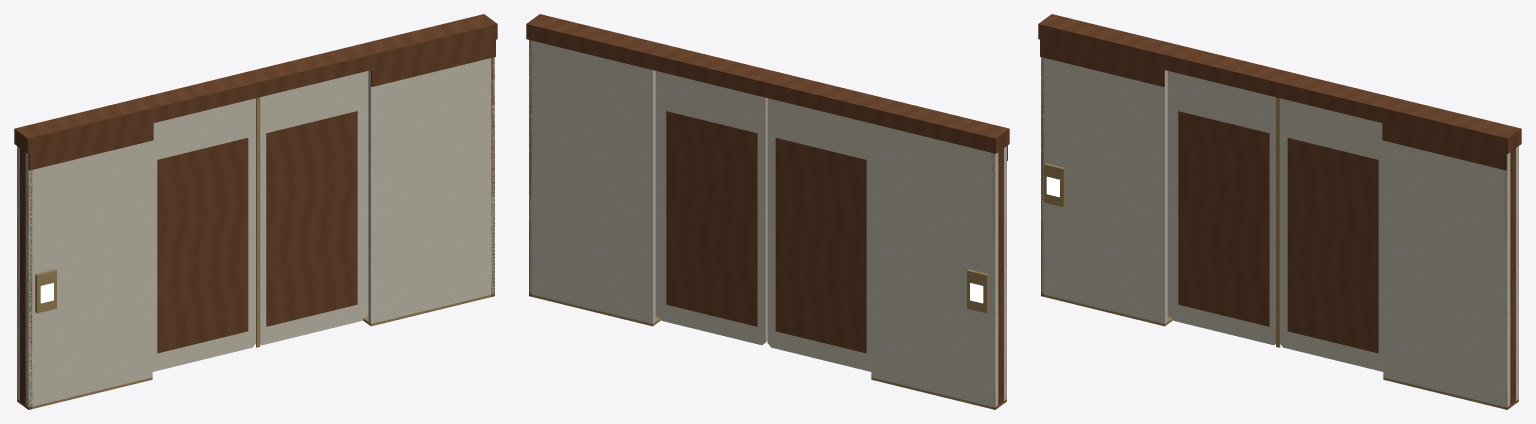
File: AST-DOR-002_wide270.glb
3 renders of one model, left to right at view 1: azimuth 30°, elevation 25°; view 2: azimuth 150°, elevation 25°; view 3: azimuth 330°, elevation 25°, orthographic.
Visible parts, largest first — view 1: ENTRY_PocketSkin_1_0, ENTRY_PocketSkin_-1_0, ENTRY_TimberInset_LEFT_-1, ENTRY_TimberInset_RIGHT_-1, ENTRY_Header, ENTRY_MovingPanel_RIGHT, ENTRY_MovingPanel_LEFT, ENTRY_ClosedPocketEnd_-1, ENTRY_FrontTrim_-1, ENTRY_FrontTrim_1, ENTRY_OverlappingMeetingSeal, ENTRY_PocketSkin_1_1 (+3 smaller); view 2: ENTRY_PocketSkin_1_1, ENTRY_PocketSkin_-1_1, ENTRY_TimberInset_LEFT_1, ENTRY_TimberInset_RIGHT_1, ENTRY_Header, ENTRY_MovingPanel_RIGHT, ENTRY_MovingPanel_LEFT, ENTRY_ClosedPocketEnd_-1, ENTRY_PocketSkin_1_0, ENTRY_PocketSkin_-1_0, ENTRY_InsideCallPlate, ENTRY_ClosedPocketEnd_1; view 3: ENTRY_PocketSkin_1_0, ENTRY_PocketSkin_-1_0, ENTRY_TimberInset_RIGHT_-1, ENTRY_TimberInset_LEFT_-1, ENTRY_Header, ENTRY_MovingPanel_LEFT, ENTRY_MovingPanel_RIGHT, ENTRY_FrontTrim_1, ENTRY_FrontTrim_-1, ENTRY_ClosedPocketEnd_1, ENTRY_OverlappingMeetingSeal, ENTRY_PocketSkin_-1_1 (+3 smaller).
Boxes of the visible parts, x1,y1,x2,y2 form: ENTRY_PocketSkin_1_0: (368,57,494,323); ENTRY_PocketSkin_-1_0: (25,140,152,407); ENTRY_TimberInset_LEFT_-1: (157,138,248,353); ENTRY_TimberInset_RIGHT_-1: (266,111,357,326); ENTRY_Header: (14,14,497,153); ENTRY_MovingPanel_RIGHT: (260,71,365,345); ENTRY_MovingPanel_LEFT: (152,98,255,371); ENTRY_ClosedPocketEnd_-1: (17,148,32,409); ENTRY_FrontTrim_-1: (28,123,153,170); ENTRY_FrontTrim_1: (371,39,495,86); ENTRY_OverlappingMeetingSeal: (256,97,260,347); ENTRY_PocketSkin_1_1: (365,71,368,316); ENTRY_PocketSkin_1_1: (529,40,655,323); ENTRY_PocketSkin_-1_1: (871,123,998,407); ENTRY_TimberInset_LEFT_1: (775,138,866,353); ENTRY_TimberInset_RIGHT_1: (666,111,757,326); ENTRY_Header: (526,14,1009,153); ENTRY_MovingPanel_RIGHT: (658,71,767,345); ENTRY_MovingPanel_LEFT: (767,98,871,371); ENTRY_ClosedPocketEnd_-1: (991,148,1006,409); ENTRY_PocketSkin_1_0: (655,71,658,316); ENTRY_PocketSkin_-1_0: (1004,146,1006,400); ENTRY_InsideCallPlate: (967,269,988,313); ENTRY_ClosedPocketEnd_1: (529,40,532,296); ENTRY_PocketSkin_1_0: (1383,140,1510,407); ENTRY_PocketSkin_-1_0: (1041,57,1167,323); ENTRY_TimberInset_RIGHT_-1: (1287,138,1378,353); ENTRY_TimberInset_LEFT_-1: (1178,111,1269,326); ENTRY_Header: (1038,14,1521,153); ENTRY_MovingPanel_LEFT: (1170,71,1275,345); ENTRY_MovingPanel_RIGHT: (1280,98,1383,371); ENTRY_FrontTrim_1: (1382,123,1507,170); ENTRY_FrontTrim_-1: (1040,39,1164,86); ENTRY_ClosedPocketEnd_1: (1503,148,1518,409); ENTRY_OverlappingMeetingSeal: (1276,97,1280,347); ENTRY_PocketSkin_-1_1: (1167,71,1170,316).
Bounding box in the file's own units: 5.16 × 2.86 × 0.35.
4 materials, 3 textured.
